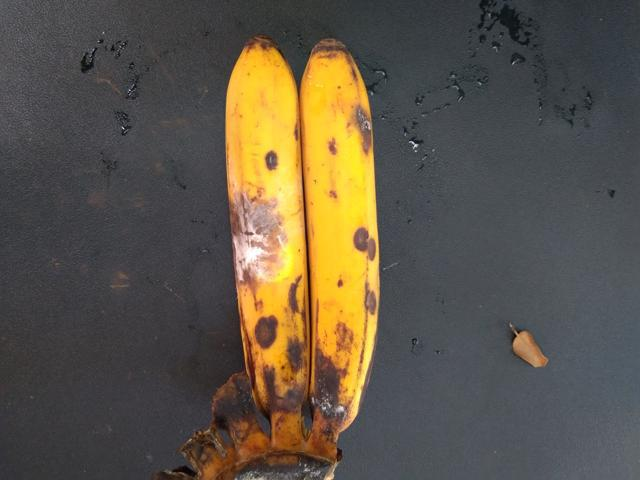overripe: (297, 28, 416, 445), (211, 29, 314, 441)
rotten: (190, 169, 300, 338)
